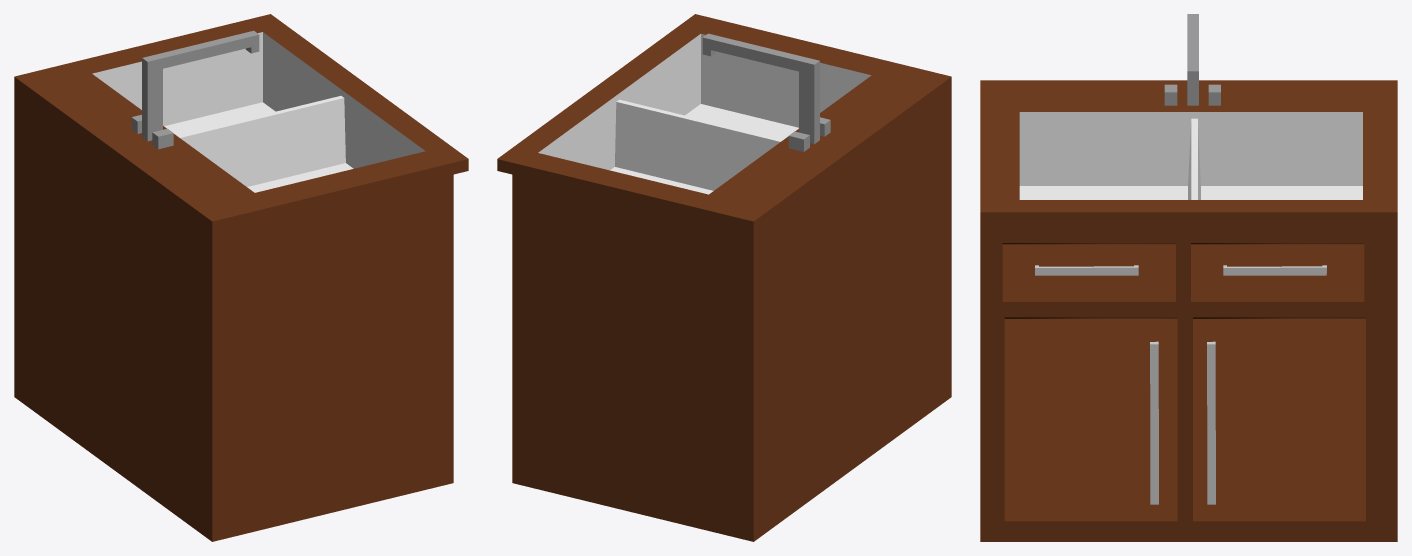
Rendered from Sink.fbx.
3 renders of one model, left to right at view 1: azimuth 30°, elevation 25°; view 2: azimuth 150°, elevation 25°; view 3: azimuth 270°, elevation 25°, orthographic. The views are drawn at different scales.
Parts seen in each view (by area): view 1: KitchenSink; view 2: KitchenSink; view 3: KitchenSink.
Boxes of the visible parts, x1,y1,x2,y2 form: KitchenSink: [14, 14, 468, 541]; KitchenSink: [497, 14, 951, 541]; KitchenSink: [980, 14, 1397, 541].
Bounding box in the file's own units: 104 × 155 × 139.
